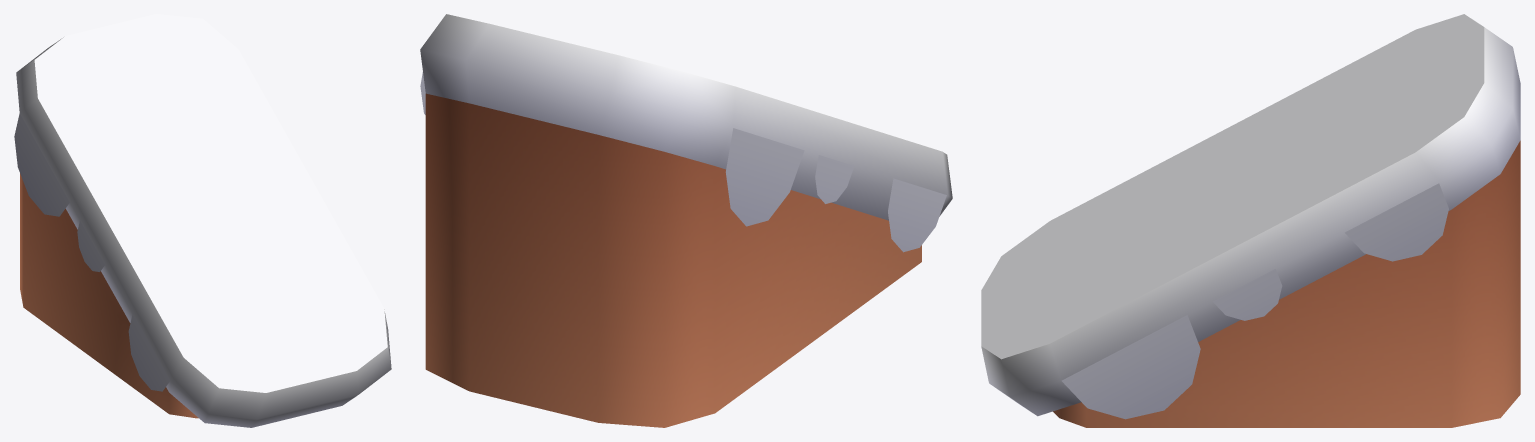
File: block-snow-overhang-large-slope-steep-narrow.glb
3 views of the same model, side by side, from view 1: azimuth 30°, elevation 25°; view 2: azimuth 150°, elevation 25°; view 3: azimuth 270°, elevation 25° (orthographic). The views are drawn at different scales.
Visible parts, largest first — view 1: block-snow-overhang-large-slope-steep-narrow; view 2: block-snow-overhang-large-slope-steep-narrow; view 3: block-snow-overhang-large-slope-steep-narrow.
Boxes of the visible parts, bbox=[...] form: block-snow-overhang-large-slope-steep-narrow: bbox=[14, 14, 391, 427]; block-snow-overhang-large-slope-steep-narrow: bbox=[420, 14, 952, 427]; block-snow-overhang-large-slope-steep-narrow: bbox=[981, 14, 1520, 427].
Bounding box in the file's own units: 1.08 × 1.22 × 1.86.
1 material, 1 textured.
